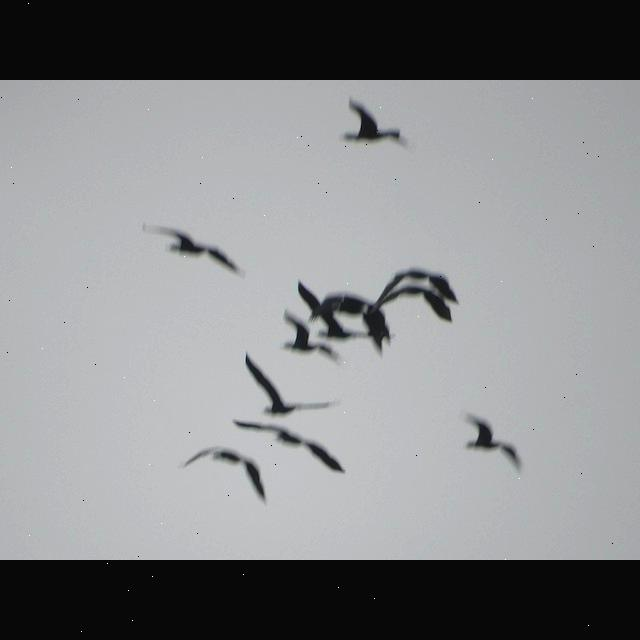cormorant: (232, 353, 338, 421), (135, 220, 255, 278), (232, 422, 350, 478), (444, 411, 540, 475), (177, 448, 266, 512), (332, 94, 406, 154), (373, 263, 463, 301)
